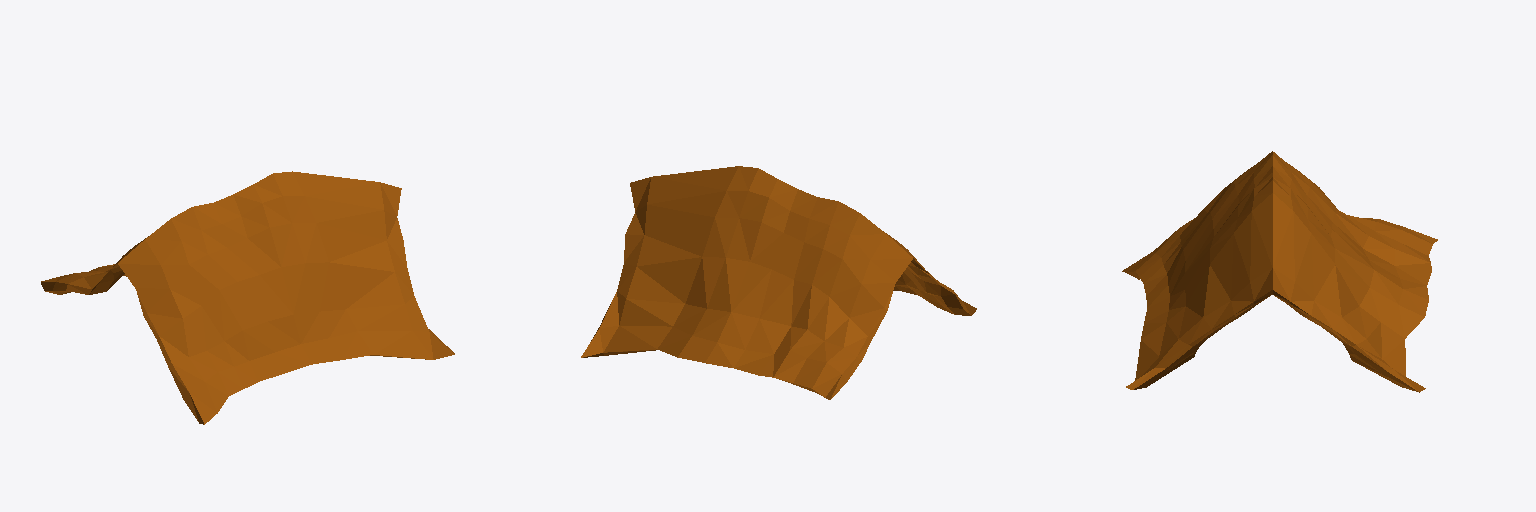
Rendered from Techo.obj.
3 views of the same model, side by side, from view 1: azimuth 30°, elevation 25°; view 2: azimuth 150°, elevation 25°; view 3: azimuth 270°, elevation 25° (orthographic).
Visible parts, largest first — view 1: Cylinder.001_Cylinder.008; view 2: Cylinder.001_Cylinder.008; view 3: Cylinder.001_Cylinder.008.
Part boxes in pixels (x1,y1,x2,y2): Cylinder.001_Cylinder.008: (41,171,454,424); Cylinder.001_Cylinder.008: (581,166,976,399); Cylinder.001_Cylinder.008: (1122,151,1437,392).
Bounding box in the file's own units: 18.22 × 10.06 × 17.62.